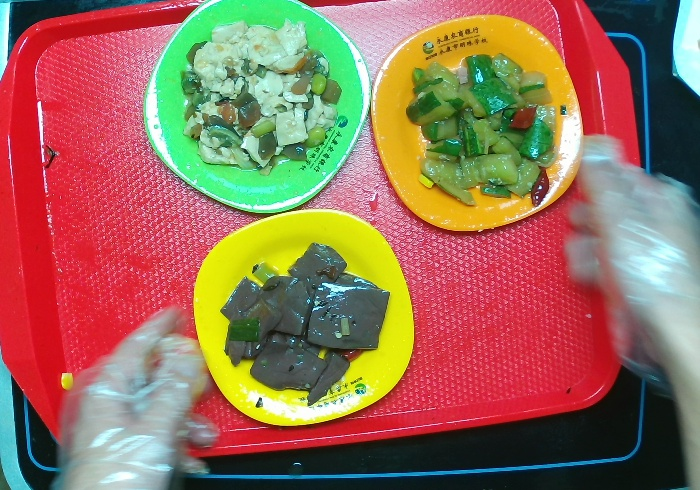YKMZ-Huang_Se_Fang_Die: (192, 207, 416, 428)
YKMZ-Ju_Se_Fang_Die: (372, 15, 587, 233)
YKMZ-Lv_Se_Fang_Die: (145, 1, 371, 217)
